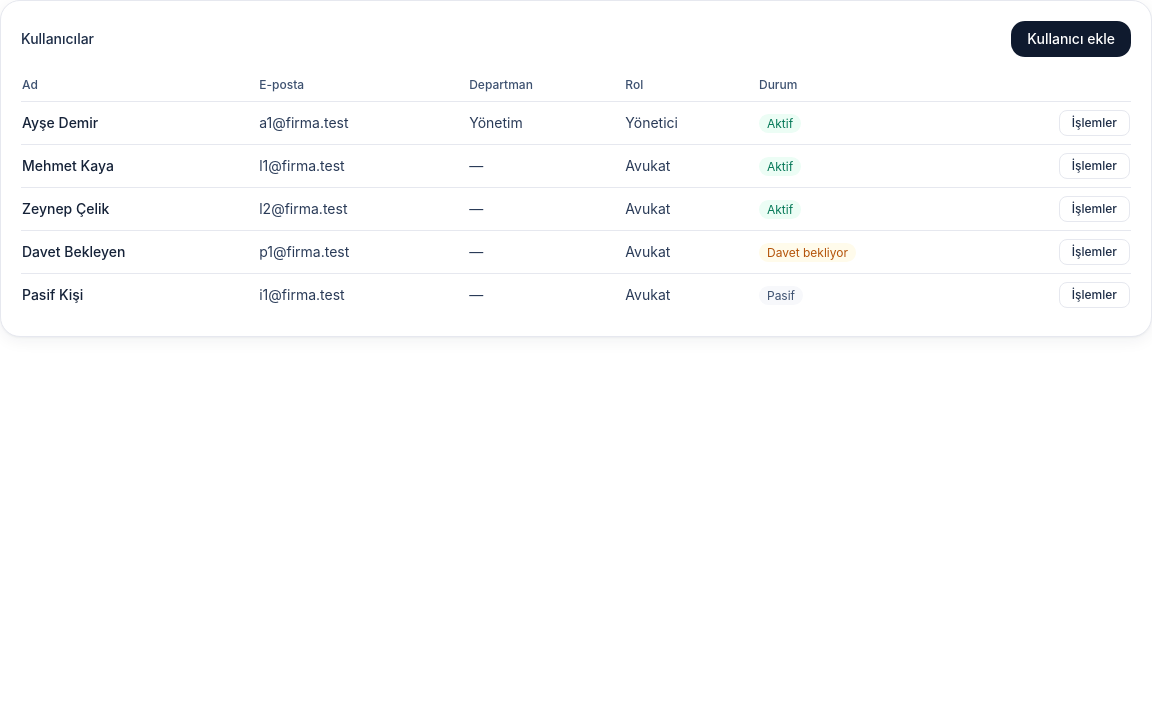
Test: UsersPanel › shows a Turkish message when the list or the workload cannot be loaded
Expected: the table is shown, [21, 69, 1131, 316]
Click the button with aria-label "İşlemler, Mehmet Kaya" at (1094, 166), box [1059, 153, 1130, 179]
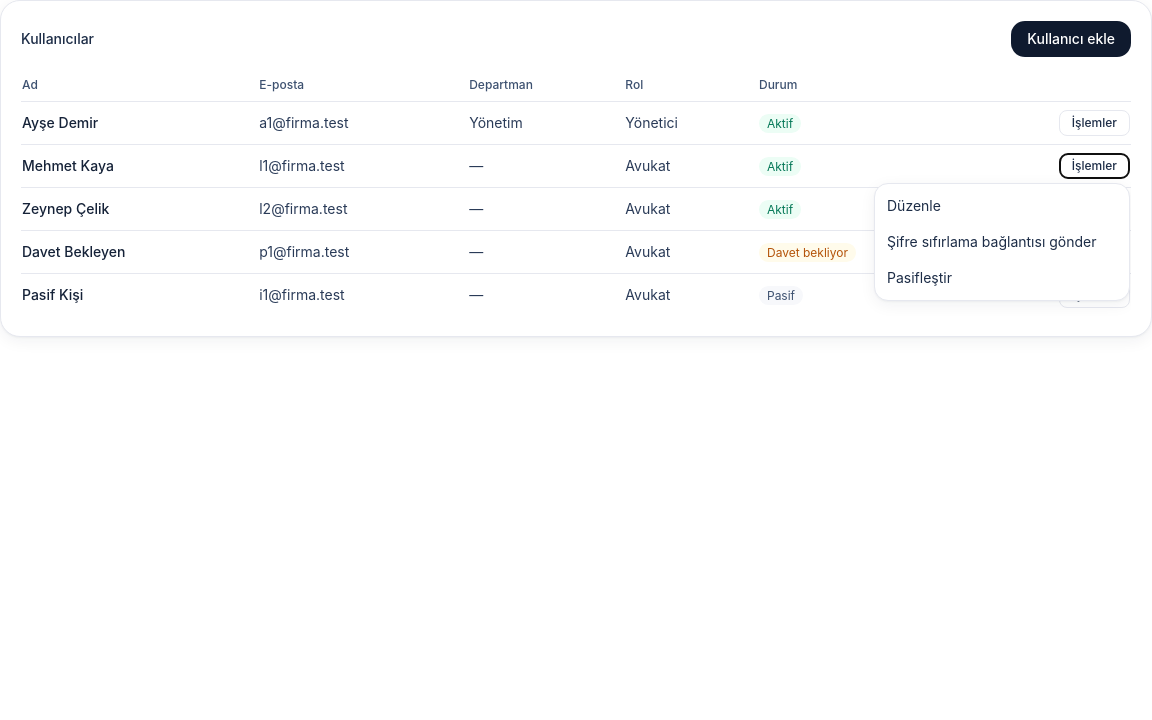
Click the menu item "Pasifleştir" at (1002, 278), box [875, 260, 1129, 296]
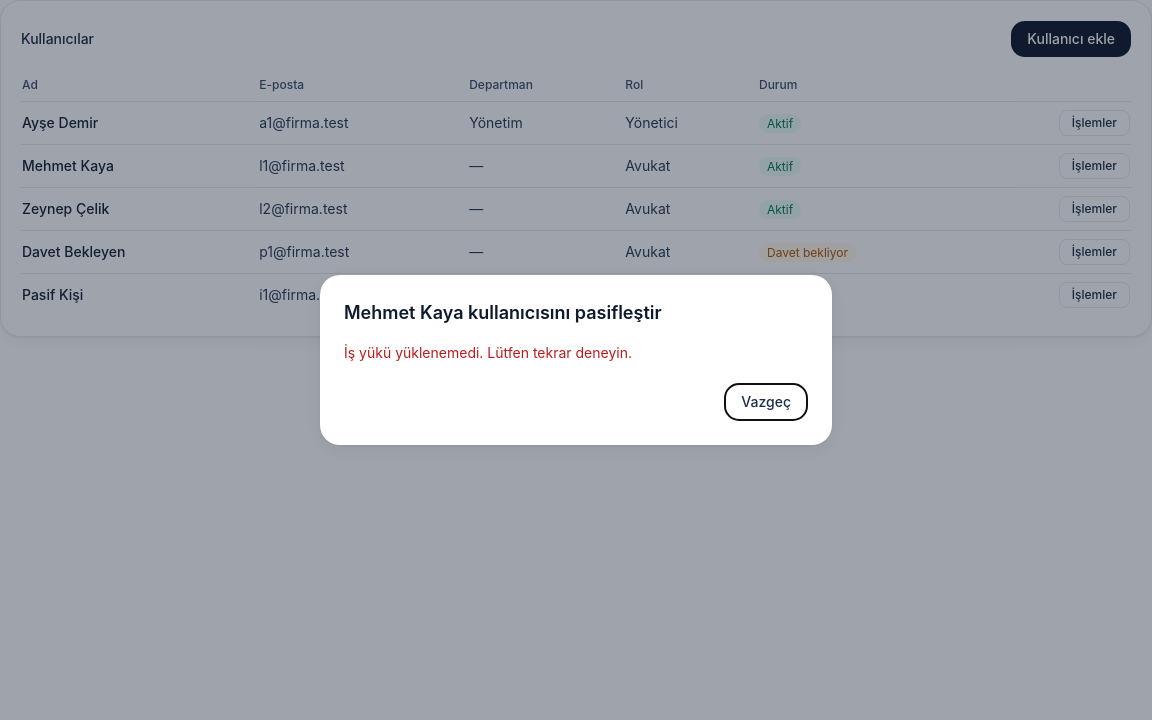
Result: the message reads "İş yükü yüklenemedi. Lütfen tekrar deneyin." at [344, 344, 632, 361]
